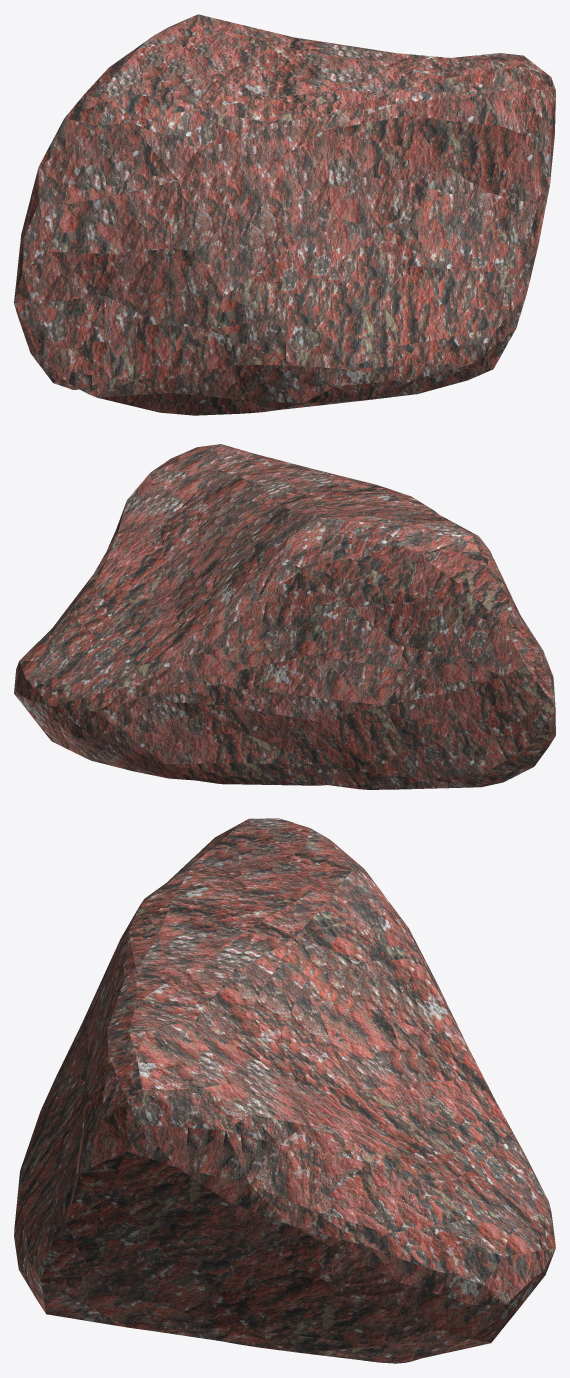
The model's file is rock_7.dae.
The picture shows the model from 3 angles, top to bottom: view 1: azimuth 30°, elevation 25°; view 2: azimuth 150°, elevation 25°; view 3: azimuth 270°, elevation 25°; orthographic projection. The views are drawn at different scales.
Parts seen in each view (by area): view 1: instance_0; view 2: instance_0; view 3: instance_0.
Boxes of the visible parts, bbox=[...] form: instance_0: bbox=[14, 14, 555, 415]; instance_0: bbox=[14, 444, 555, 789]; instance_0: bbox=[14, 818, 555, 1363].
Size of the model in its own units: 30.09 by 22.87 by 16.66.
Materials: 1 (1 with a texture image).
